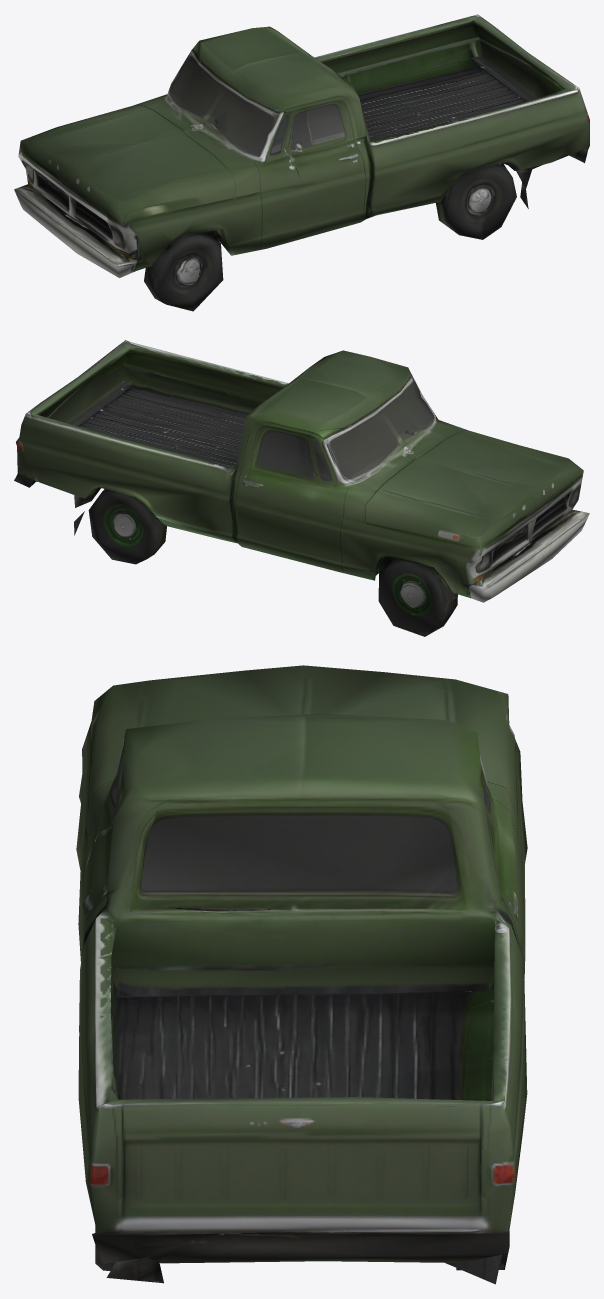
Rendered from Green_Classic_Pickup_1121034123_texture.fbx.
3 renders of one model, top to bottom at view 1: azimuth 30°, elevation 25°; view 2: azimuth 150°, elevation 25°; view 3: azimuth 270°, elevation 25°, orthographic. The views are drawn at different scales.
Visible parts, largest first — view 1: Mesh1.0; view 2: Mesh1.0; view 3: Mesh1.0.
Part boxes in pixels (left/top/right/bottom): Mesh1.0: left=14, top=14, right=589, bottom=311; Mesh1.0: left=14, top=340, right=589, bottom=636; Mesh1.0: left=76, top=665, right=527, bottom=1284.
Size of the model in its own units: 200 by 74.07 by 82.34.
1 material, 1 textured.
